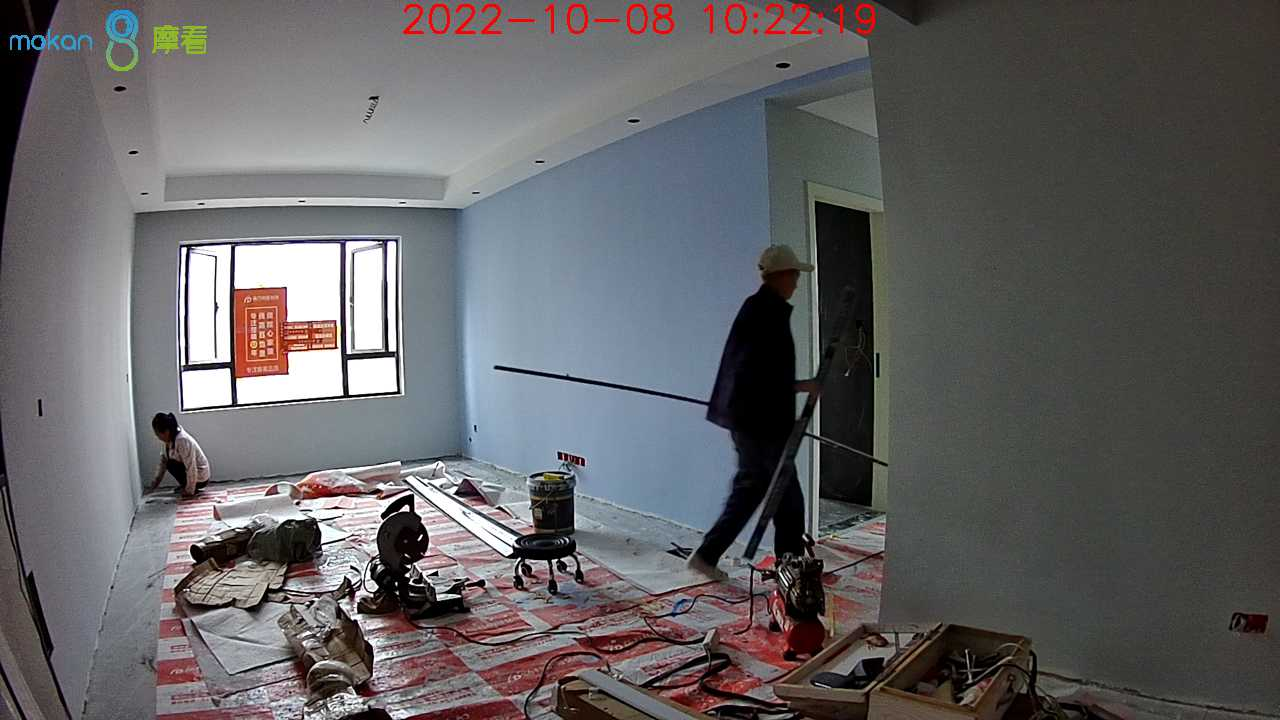people: (691, 245, 827, 586), (143, 412, 212, 503)
window: (174, 244, 398, 400)
